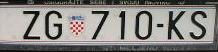-: (156, 23, 163, 28)
0: (135, 11, 152, 39)
1: (118, 10, 126, 40)
7: (91, 10, 109, 39)
G: (45, 10, 62, 39)
K: (168, 11, 184, 40)
S: (190, 11, 207, 39)
Z: (22, 11, 40, 39)
